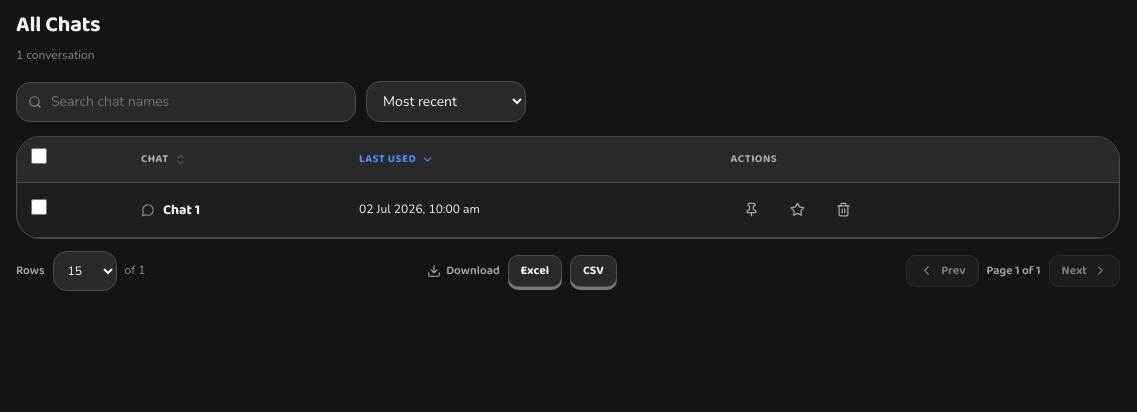
6.5 every chat is reachable and clearable › an empty search result says WHICH field was searched
This screenshot has width=1137, height=412.
Expected: the element with test id "chats-datatable" is shown, x1=16 y1=136 x2=1120 y2=291
Type "zzz" into the field with test id "chats-search". click: (186, 102)
box: x1=16 y1=82 x2=356 y2=122
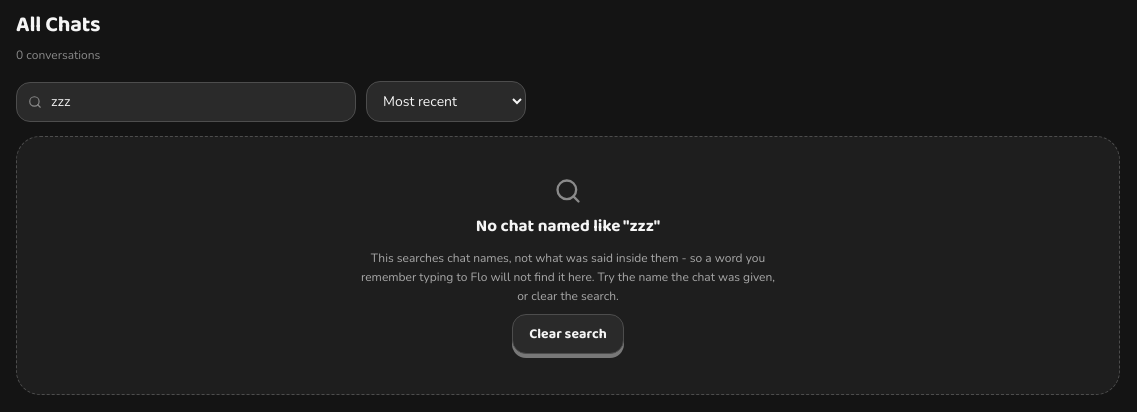
Now the element with test id "all-chats-no-matches" shows "searches chat names, not what was said inside them", box x1=361 y1=250 x2=775 y2=304
